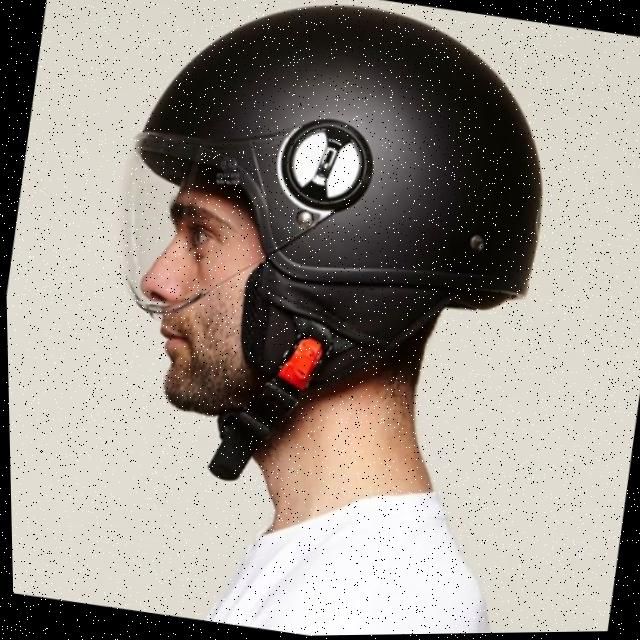helmet: (57, 0, 584, 534)
